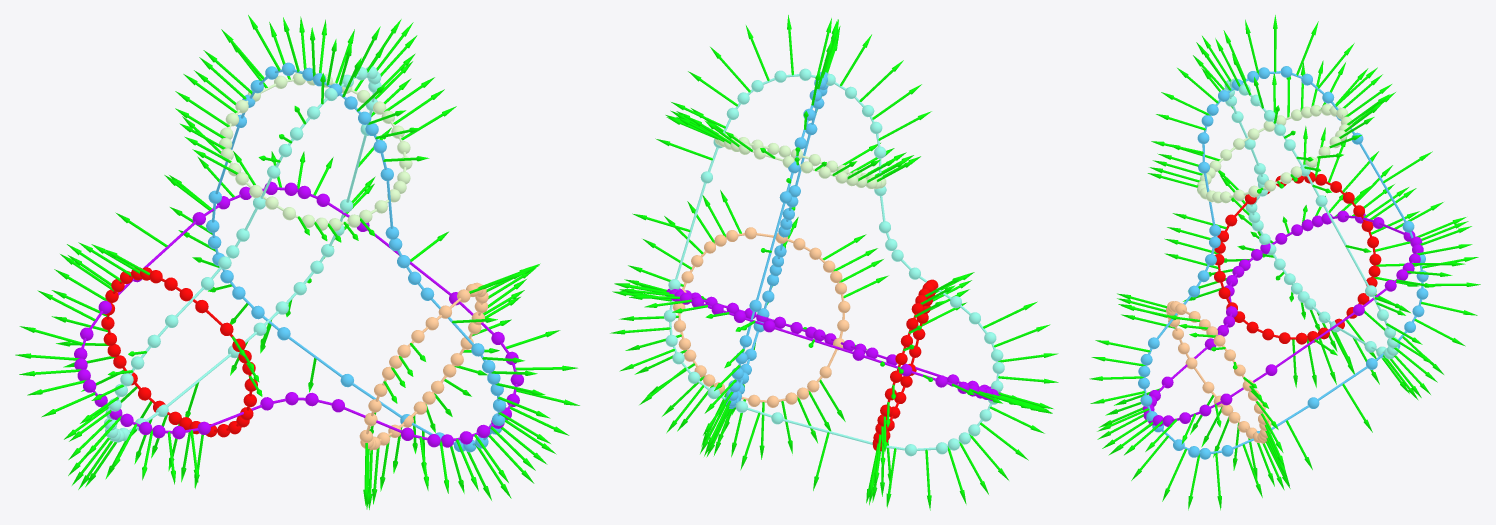
The model's file is flowrep_trebol.gltf.
The picture shows the model from 3 angles, left to right: view 1: azimuth 30°, elevation 25°; view 2: azimuth 150°, elevation 25°; view 3: azimuth 270°, elevation 25°; orthographic projection. The views are drawn at different scales.
Bounding box in the file's own units: 0.8299 × 0.8033 × 0.6622.
